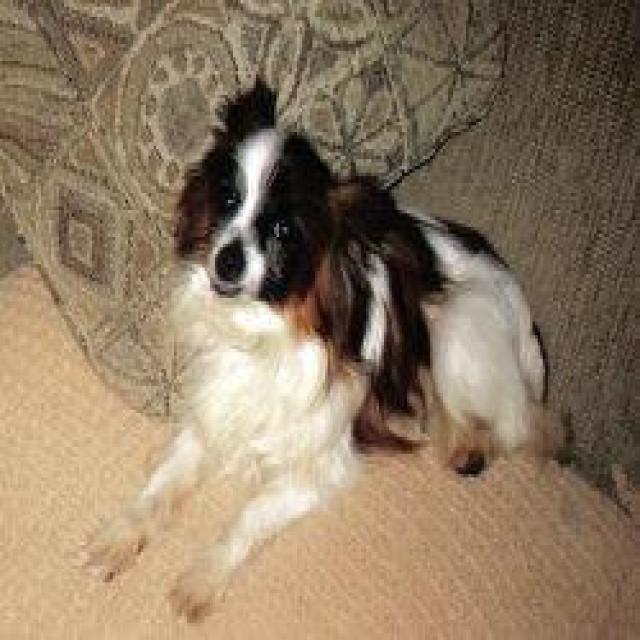papillon: (49, 58, 588, 636)
